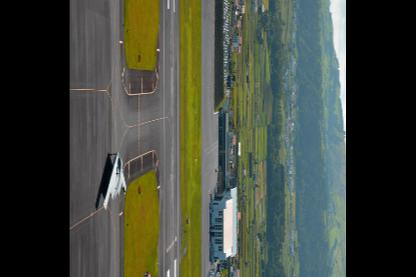B1: (102, 151, 127, 210)
